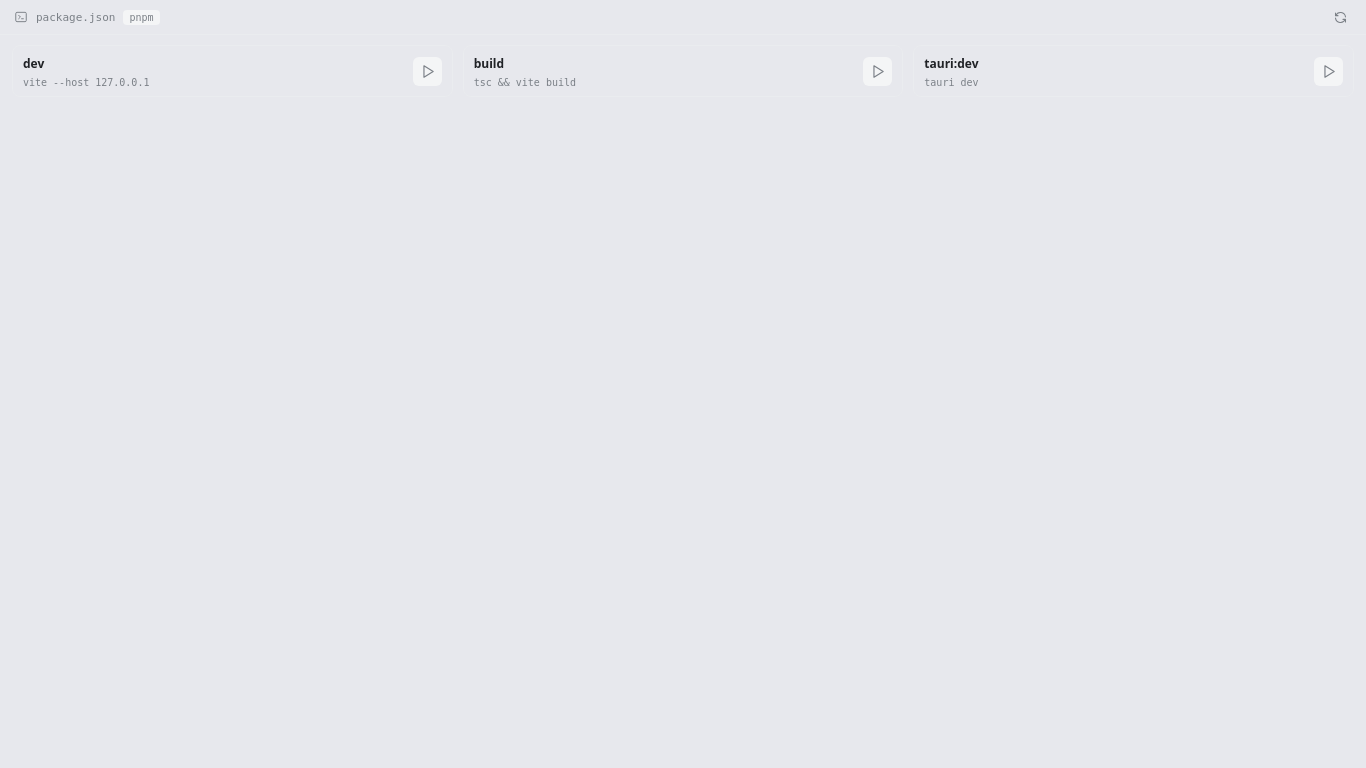
Test: 项目脚本面板 › 列出脚本原始命令并使用当前项目和识别的包管理器启动
The image size is (1366, 768).
Step 1. Click the button named "运行脚本 tauri:dev" → (1328, 71), box [1314, 56, 1343, 86]
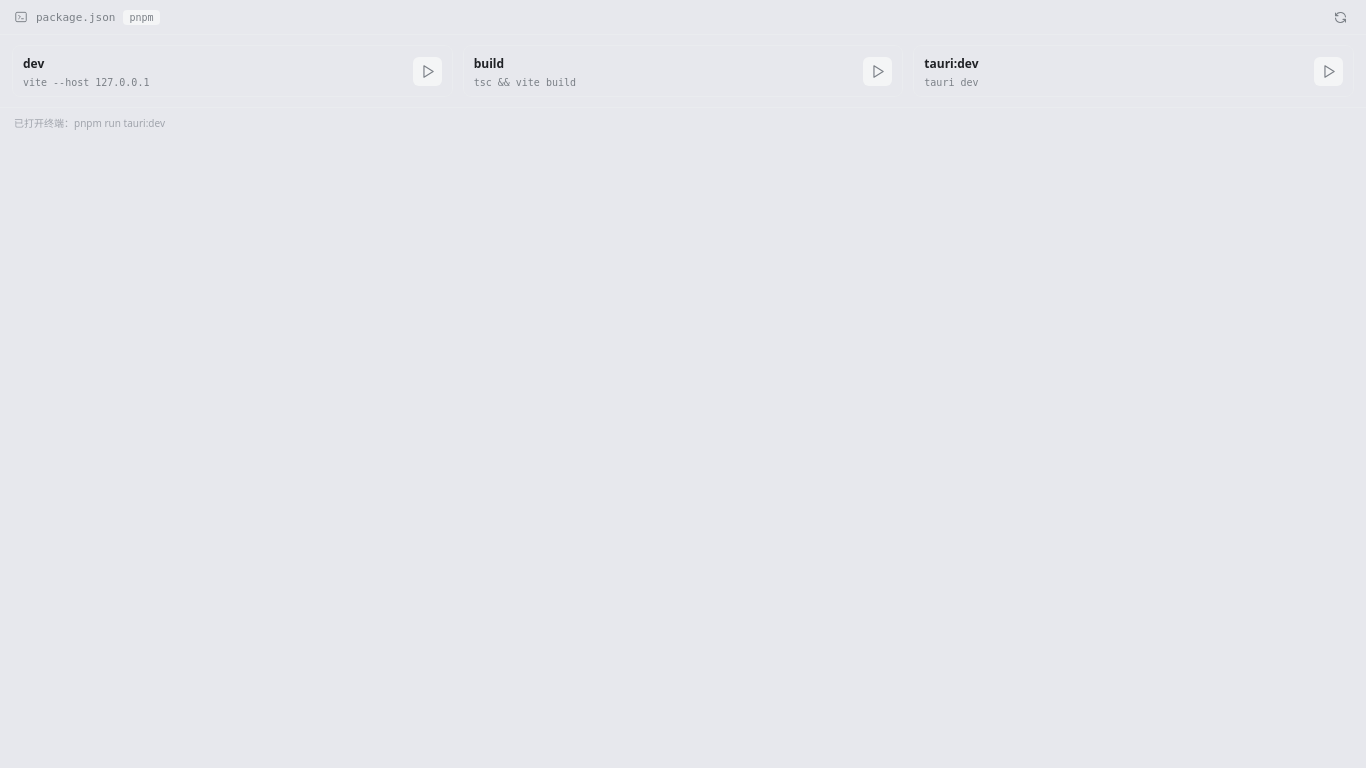
Expected: the text "已打开终端：pnpm run tauri:dev" is shown, [0, 107, 1365, 137]
